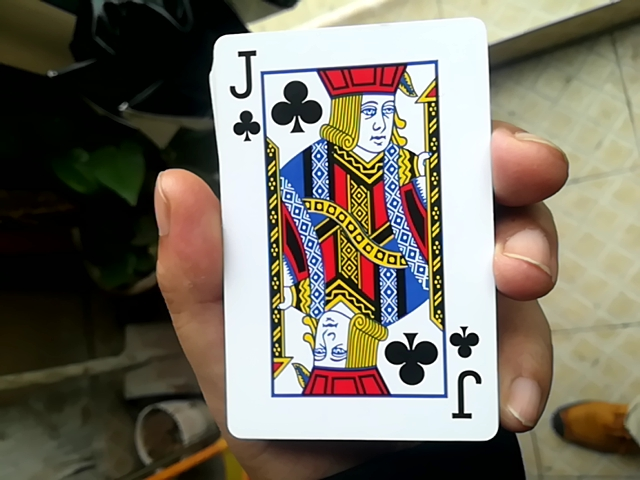mh j: (207, 7, 497, 434)
